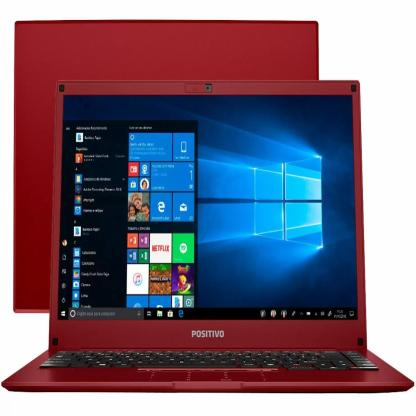NOTEBOOK: (4, 6, 416, 415)
